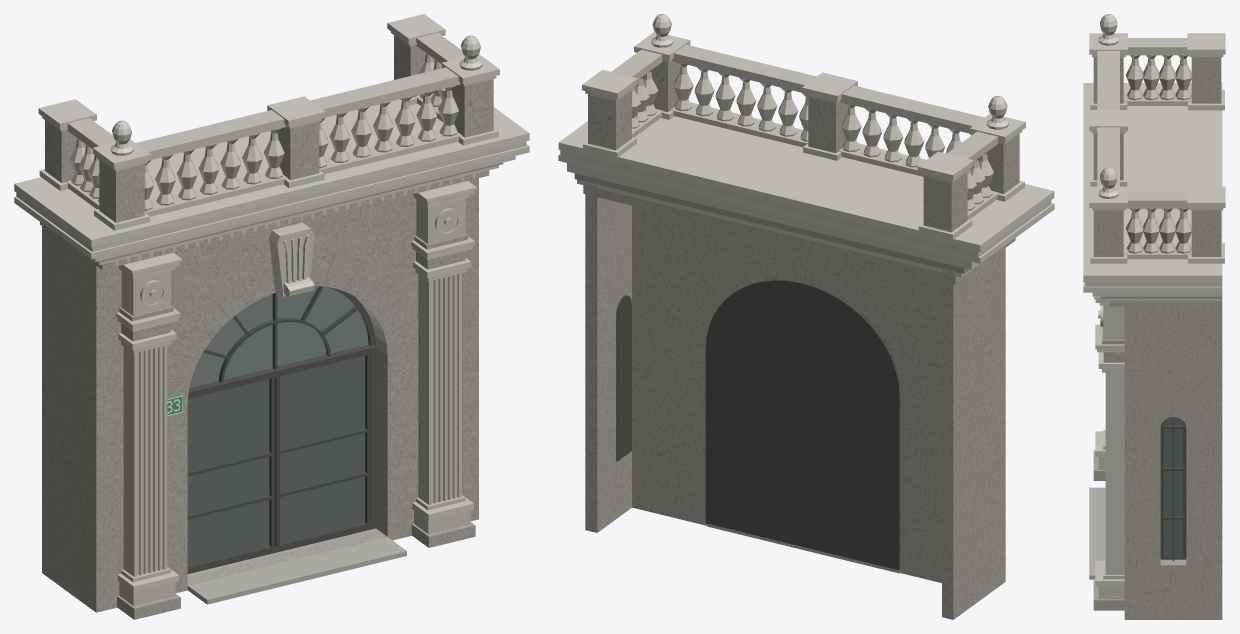
File: dupleix-porch-far.glb
3 renders of one model, left to right at view 1: azimuth 30°, elevation 25°; view 2: azimuth 150°, elevation 25°; view 3: azimuth 270°, elevation 25°, orthographic. The views are drawn at different scales.
Parts seen in each view (by area): view 1: 巨泼来斯公寓安福路233号石券门廊与瓶栏露台; view 2: 巨泼来斯公寓安福路233号石券门廊与瓶栏露台; view 3: 巨泼来斯公寓安福路233号石券门廊与瓶栏露台.
Part boxes in pixels (<box>): 巨泼来斯公寓安福路233号石券门廊与瓶栏露台: <box>14,14,529,619</box>; 巨泼来斯公寓安福路233号石券门廊与瓶栏露台: <box>558,14,1054,619</box>; 巨泼来斯公寓安福路233号石券门廊与瓶栏露台: <box>1083,14,1225,619</box>.
Size of the model in its own units: 4.45 by 4.79 by 1.39.
10 materials, 1 textured.
